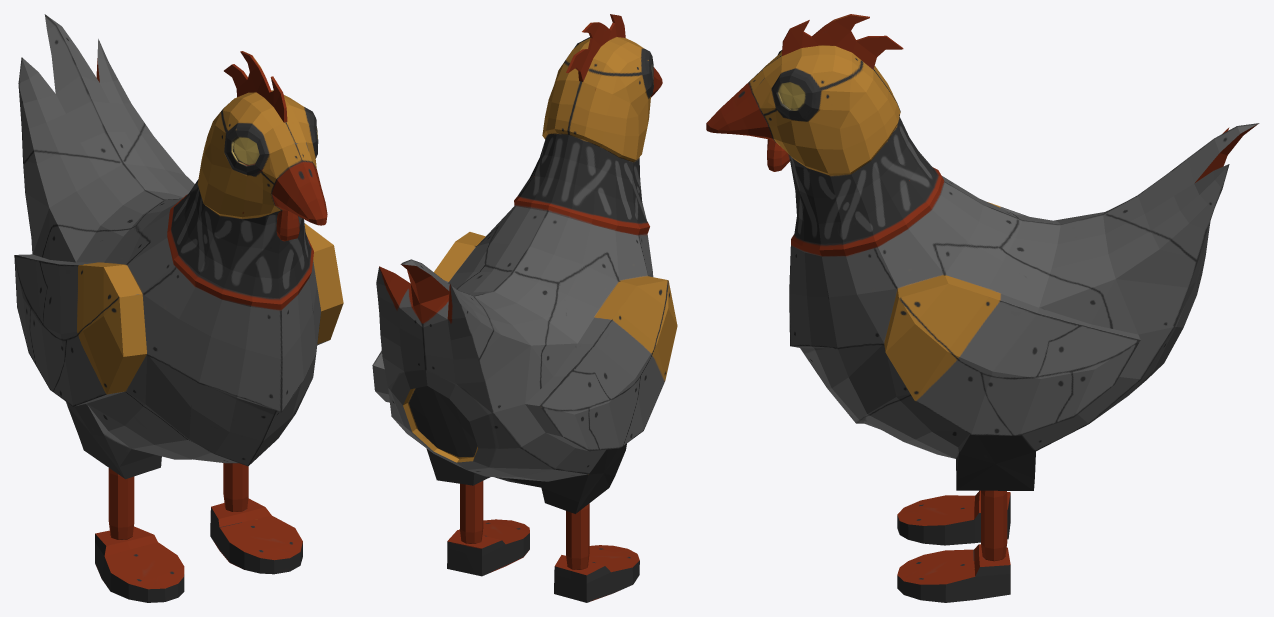
Rendered from despiezado.fbx.
3 views of the same model, side by side, from view 1: azimuth 30°, elevation 25°; view 2: azimuth 150°, elevation 25°; view 3: azimuth 270°, elevation 25° (orthographic). The views are drawn at different scales.
Parts seen in each view (by area): view 1: Plane.013, Plane.012, Plane.017, wing.003, Plane.014, wing.004, Plane.019, Plane.020, Plane.002, Plane.009, Plane.011, Plane.007 (+12 smaller); view 2: wing.004, Plane.017, Plane.013, Plane.002, Plane, Plane.016, wing.003, Plane.014, Plane.021, Plane.009, Plane.015, Plane.019 (+11 smaller); view 3: Plane.014, wing.001, Plane.012, Plane.015, wing.002, Plane.018, Plane.011, Plane.010, Plane.020, Plane.022, Plane.019, Plane.005 (+8 smaller).
Part boxes in pixels (x1,y1,x2,y2): Plane.013: (104, 194, 276, 466); Plane.012: (199, 236, 321, 412); Plane.017: (23, 114, 142, 262); wing.003: (41, 262, 146, 406); Plane.014: (44, 14, 194, 214); wing.004: (14, 254, 102, 389); Plane.019: (95, 526, 184, 602); Plane.020: (210, 498, 302, 574); Plane.002: (171, 179, 255, 295); Plane.009: (197, 98, 281, 219); Plane.011: (230, 214, 310, 298); Plane.007: (245, 142, 327, 225); wing.004: (525, 308, 656, 451); Plane.017: (461, 283, 599, 412); Plane.013: (511, 202, 653, 308); Plane.002: (520, 133, 646, 223); Plane: (388, 389, 605, 481); Plane.016: (401, 264, 500, 412); wing.003: (600, 276, 677, 447); Plane.014: (401, 196, 550, 309); Plane.021: (388, 369, 491, 462); Plane.009: (596, 42, 650, 162); Plane.015: (376, 266, 425, 387); Plane.019: (554, 545, 639, 602); Plane.014: (903, 123, 1258, 307); wing.001: (884, 274, 1040, 435); Plane.012: (789, 219, 944, 348); Plane.015: (1039, 164, 1229, 334); wing.002: (993, 308, 1140, 435); Plane.018: (800, 343, 968, 458); Plane.011: (790, 156, 924, 243); Plane.010: (760, 53, 873, 175); Plane.020: (897, 544, 1010, 602); Plane.022: (956, 434, 1035, 497); Plane.019: (897, 490, 1010, 545); Plane.005: (762, 14, 869, 88).
Bounding box in the file's own units: 60.79 × 134 × 123.
